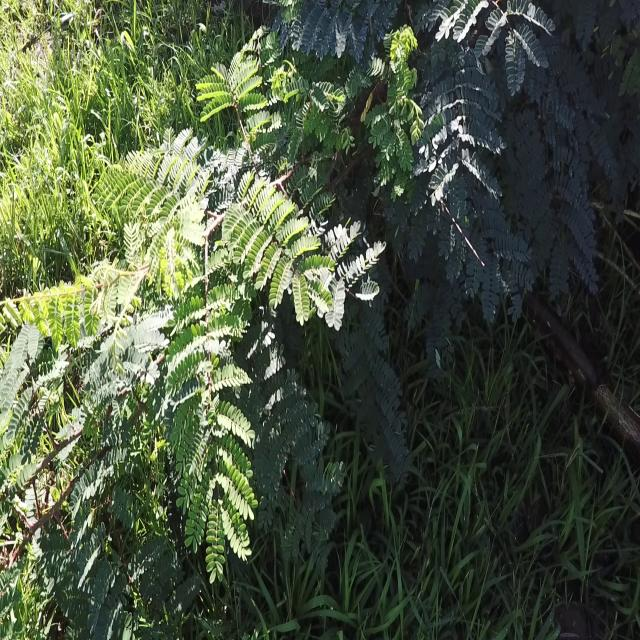Mysore-Thorn-Weed: (195, 0, 632, 311), (0, 132, 259, 628), (98, 152, 422, 502)
